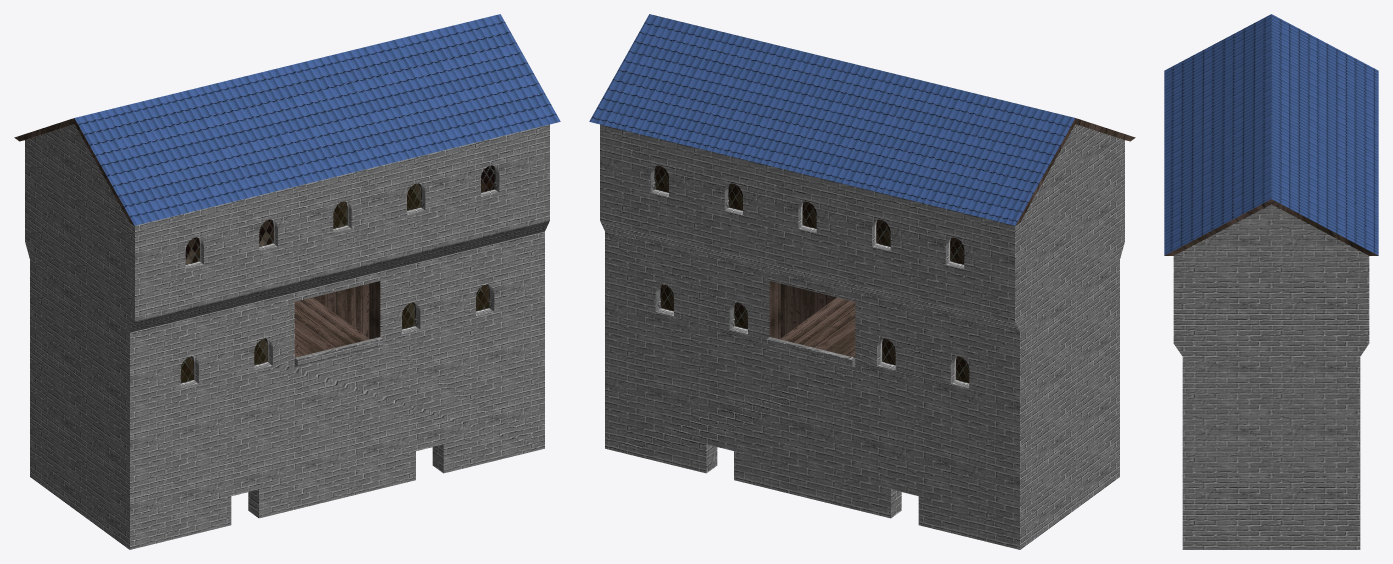
File: HouseWidetop.fbx
3 renders of one model, left to right at view 1: azimuth 30°, elevation 25°; view 2: azimuth 150°, elevation 25°; view 3: azimuth 270°, elevation 25°, orthographic. The views are drawn at different scales.
Parts seen in each view (by area): view 1: HouseWidetop; view 2: HouseWidetop; view 3: HouseWidetop.
Boxes of the visible parts, <box> form: HouseWidetop: <box>14,14,560,549</box>; HouseWidetop: <box>589,14,1135,549</box>; HouseWidetop: <box>1164,14,1378,549</box>.
Bounding box in the file's own units: 2310 × 2055 × 1131.
